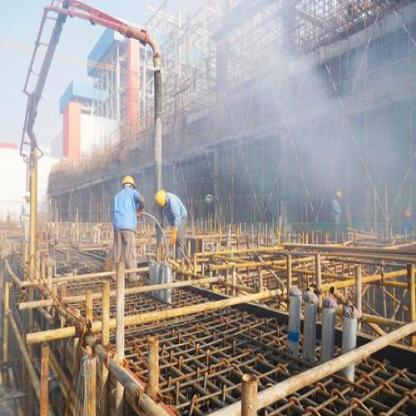helmet: (153, 186, 169, 208), (120, 172, 136, 193), (332, 189, 344, 203)
